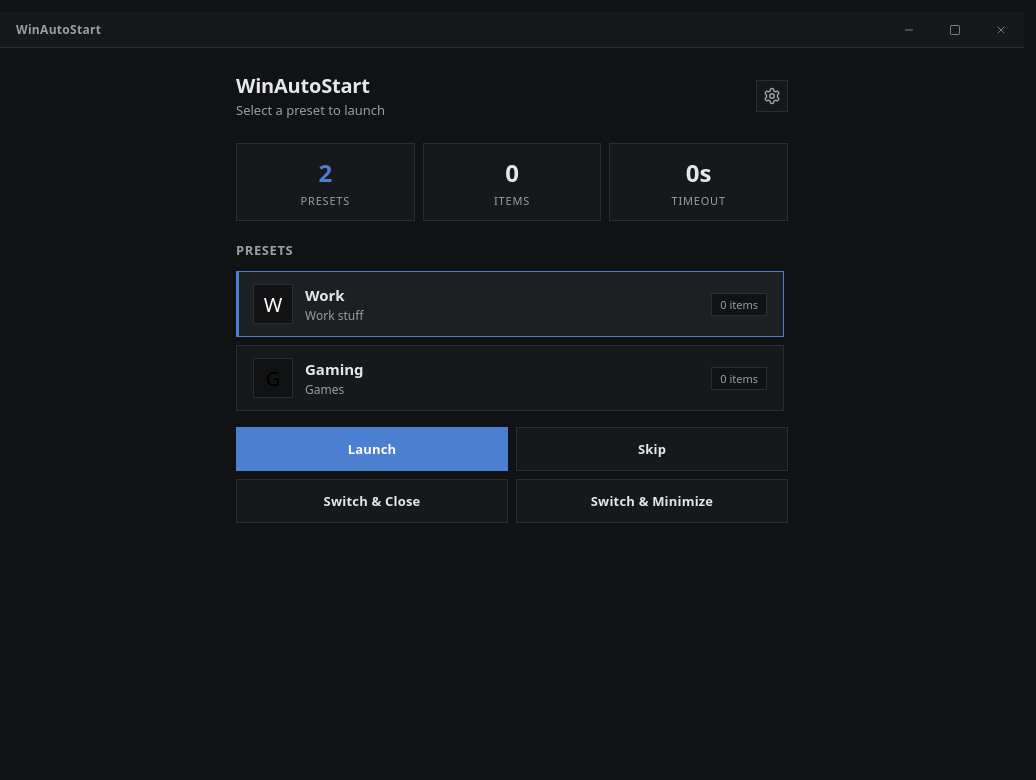
App: settings and presets › navigates to settings via the gear button
The width and height of the screenshot is (1036, 780).
Expected: the text "Select a preset to launch" is shown, x1=236 y1=101 x2=385 y2=119
Click the button titled "Settings": coordinates (772, 96) x1=756 y1=80 x2=788 y2=112
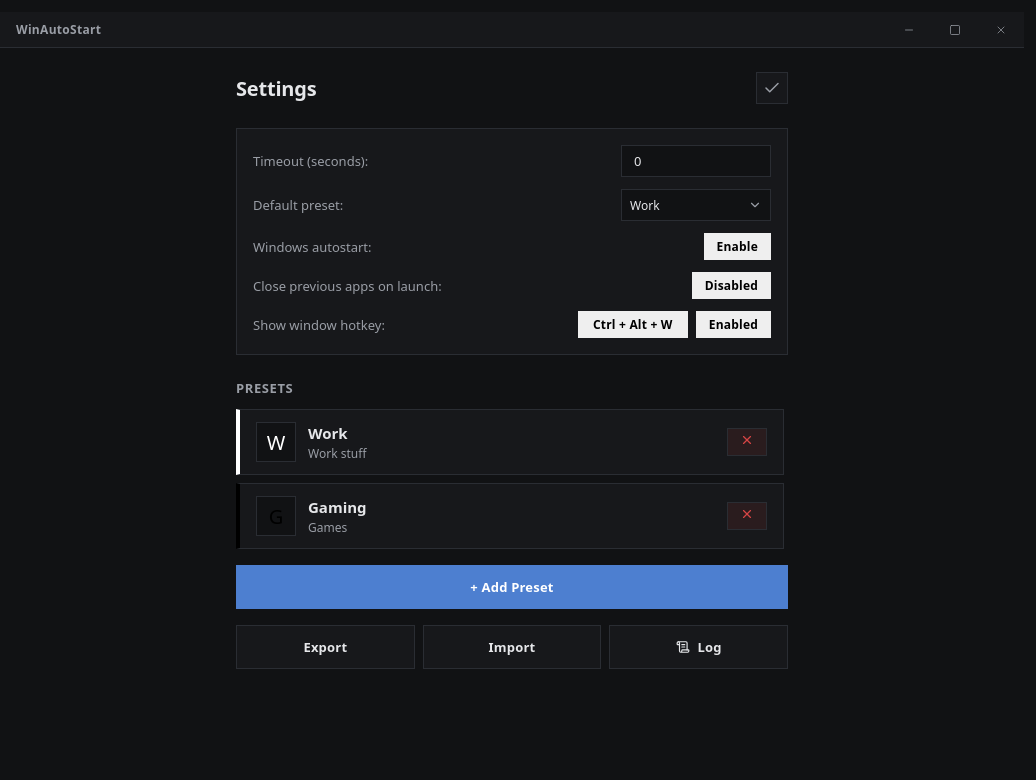
Result: the heading "Settings" is shown at x1=236 y1=74 x2=316 y2=102
Result: the button "+ Add Preset" is shown at x1=236 y1=565 x2=788 y2=609
